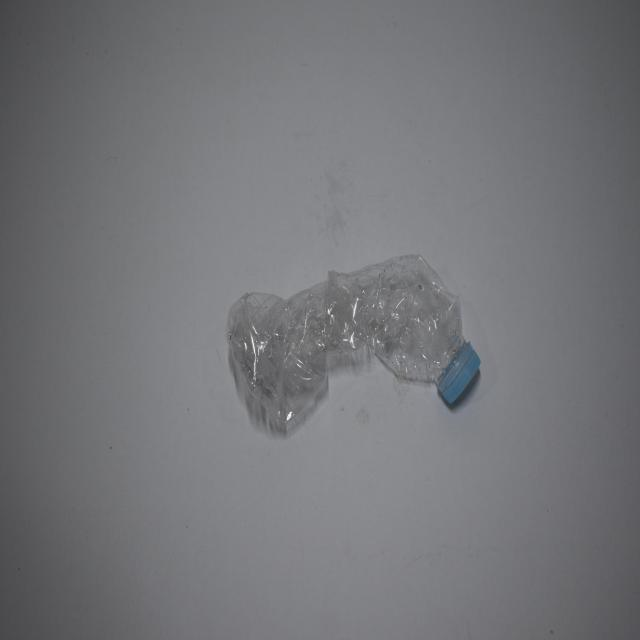bottle: (218, 263, 495, 442)
